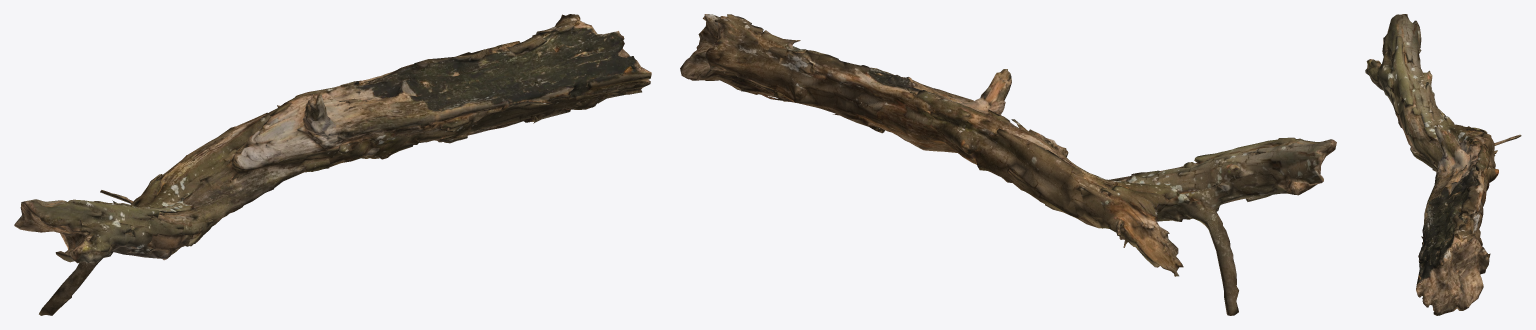
Rendered from dead_tree_trunk_02.glb.
3 views of the same model, side by side, from view 1: azimuth 30°, elevation 25°; view 2: azimuth 150°, elevation 25°; view 3: azimuth 270°, elevation 25° (orthographic). The views are drawn at different scales.
Visible parts, largest first — view 1: dead_tree_trunk_02; view 2: dead_tree_trunk_02; view 3: dead_tree_trunk_02.
Part boxes in pixels (x1=…): dead_tree_trunk_02: x1=14, y1=14, x2=651, y2=315; dead_tree_trunk_02: x1=680, y1=14, x2=1336, y2=315; dead_tree_trunk_02: x1=1365, y1=14, x2=1521, y2=315.
Bounding box in the file's own units: 4.05 × 1.05 × 1.05.
Materials: 1 (1 with a texture image).
